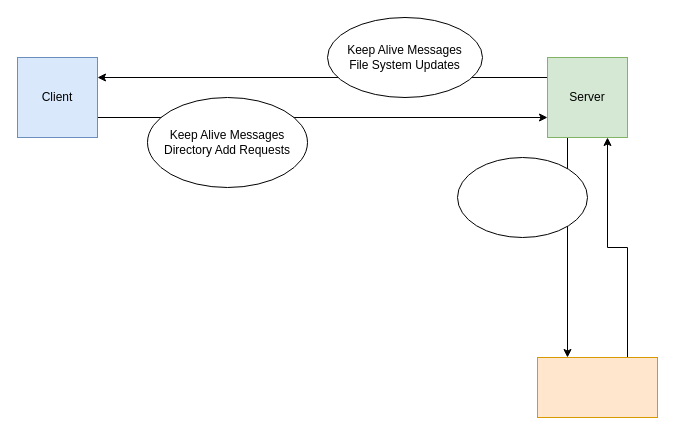
The diagram is 675 pixels wide and 435 high, and some of its shapes have lost their labels. The centre of each missing label's shape, as x and y in pixels:
"Attach listeners to FS" goes at point 522,197.
"File System" goes at point 597,387.
